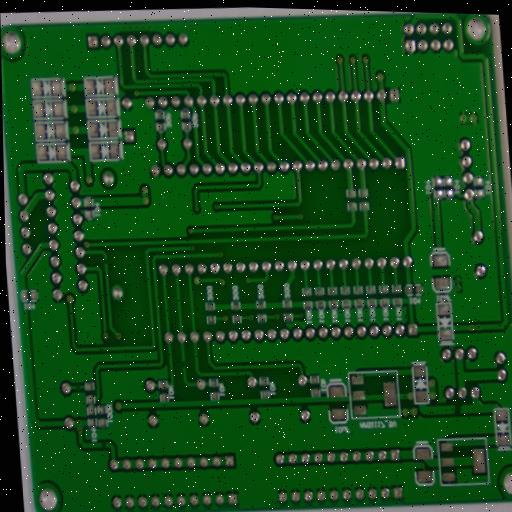open_circuit: (451, 401, 464, 415), (179, 359, 189, 370), (100, 440, 109, 450), (102, 255, 109, 267), (74, 383, 82, 392)
